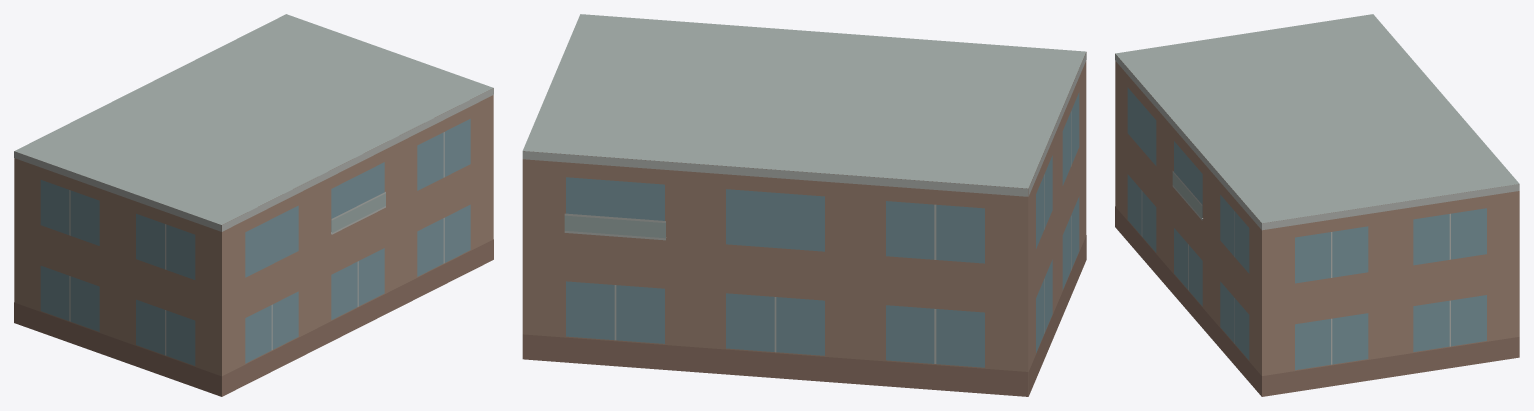
The model's file is survey-upis-32696767.glb.
3 views of the same model, side by side, from view 1: azimuth 30°, elevation 25°; view 2: azimuth 150°, elevation 25°; view 3: azimuth 270°, elevation 25° (orthographic). The views are drawn at different scales.
Visible parts, largest first — view 1: survey-upis-32696767.tmp; view 2: survey-upis-32696767.tmp; view 3: survey-upis-32696767.tmp.
Part boxes in pixels (<box>): survey-upis-32696767.tmp: <box>14,14,493,396</box>; survey-upis-32696767.tmp: <box>522,14,1086,396</box>; survey-upis-32696767.tmp: <box>1115,14,1519,396</box>.
Size of the model in its own units: 15.79 by 6.1 by 12.9.
